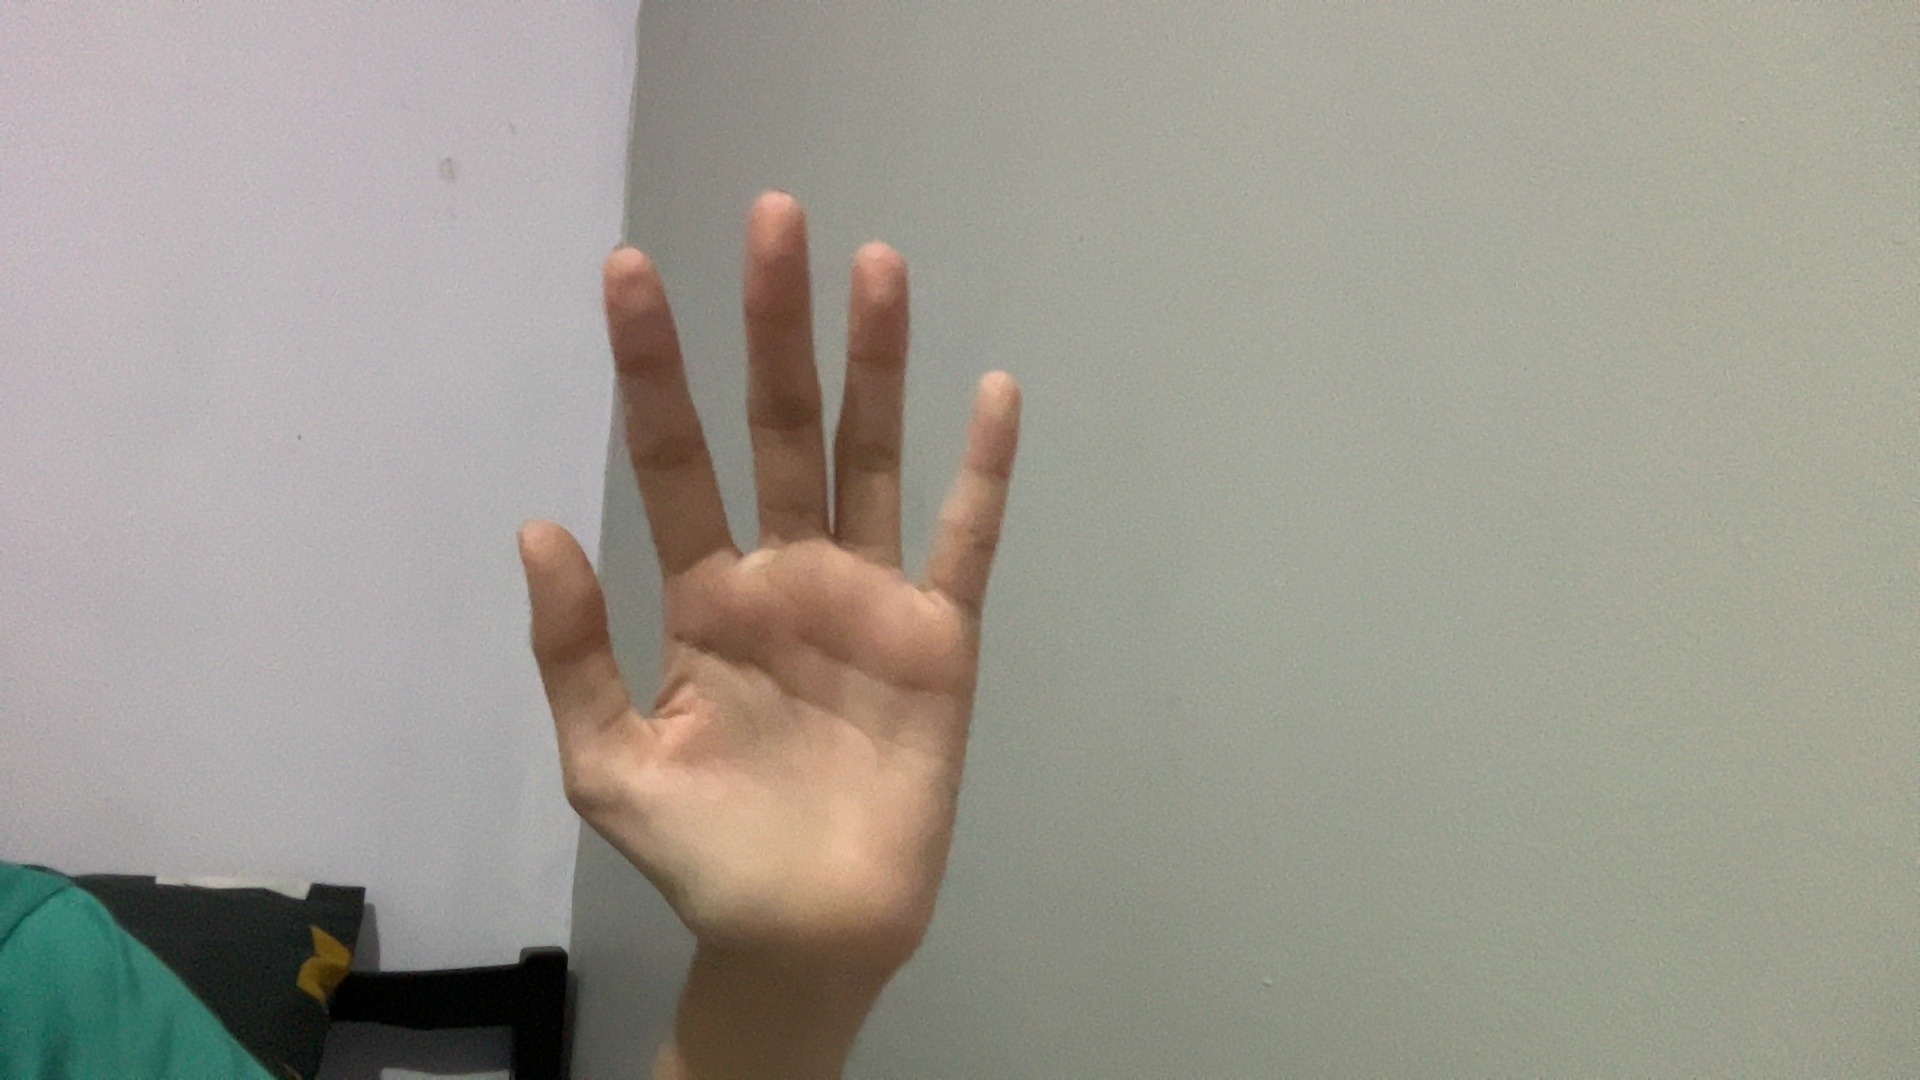Hello: (324, 174, 1193, 1021)
